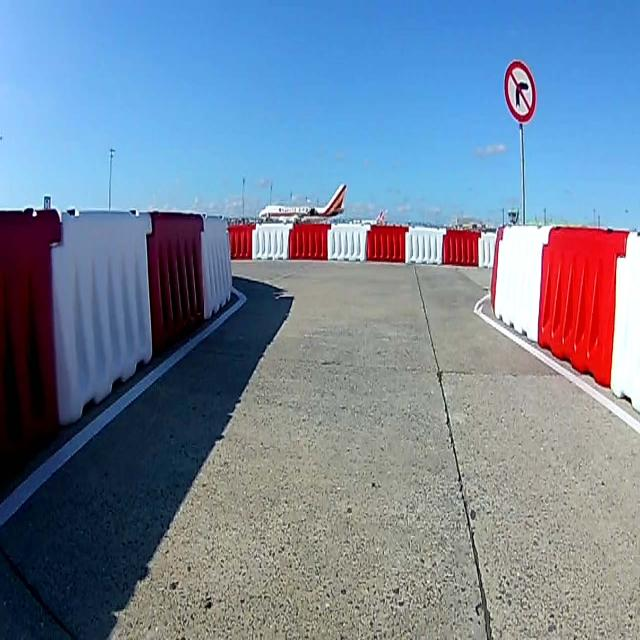sagadonulmez: (504, 62, 536, 122)
